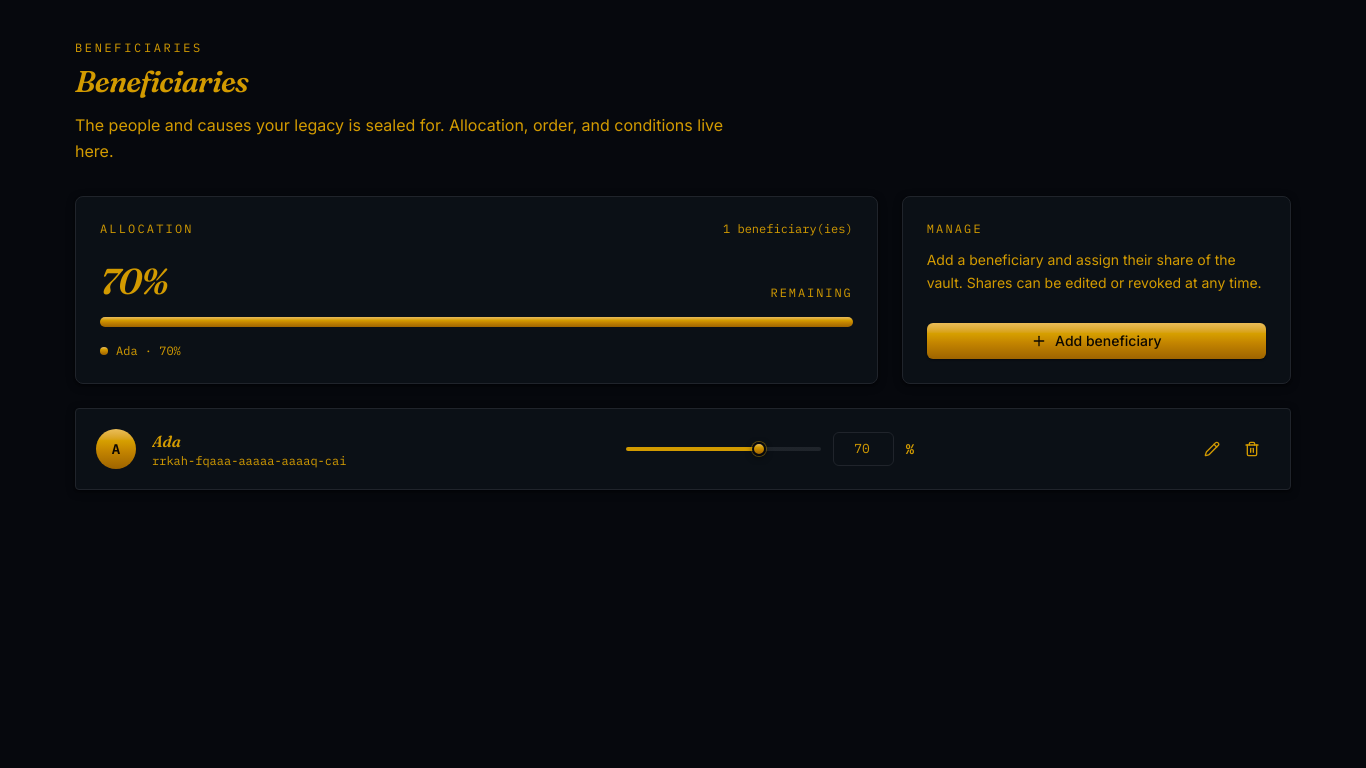
Scenario: BeneficiaryPage › rejects an allocation sum that would exceed 100% with an inline error
The image size is (1366, 768).
Click the button "Add beneficiary".
click(1096, 341)  # box [927,323,1266,359]
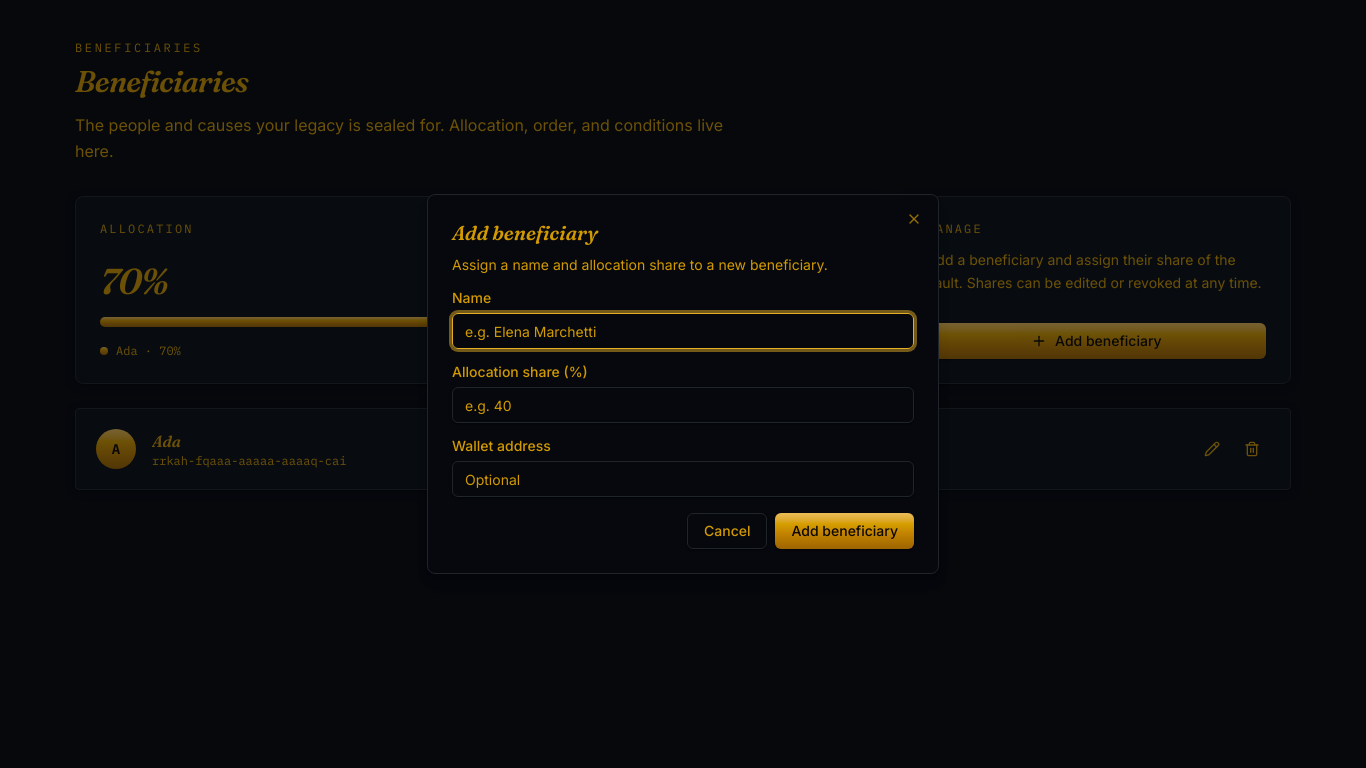
Type "Bob" into the field labelled "Name".
click(683, 331); type("Bob")  # box [452,313,914,349]
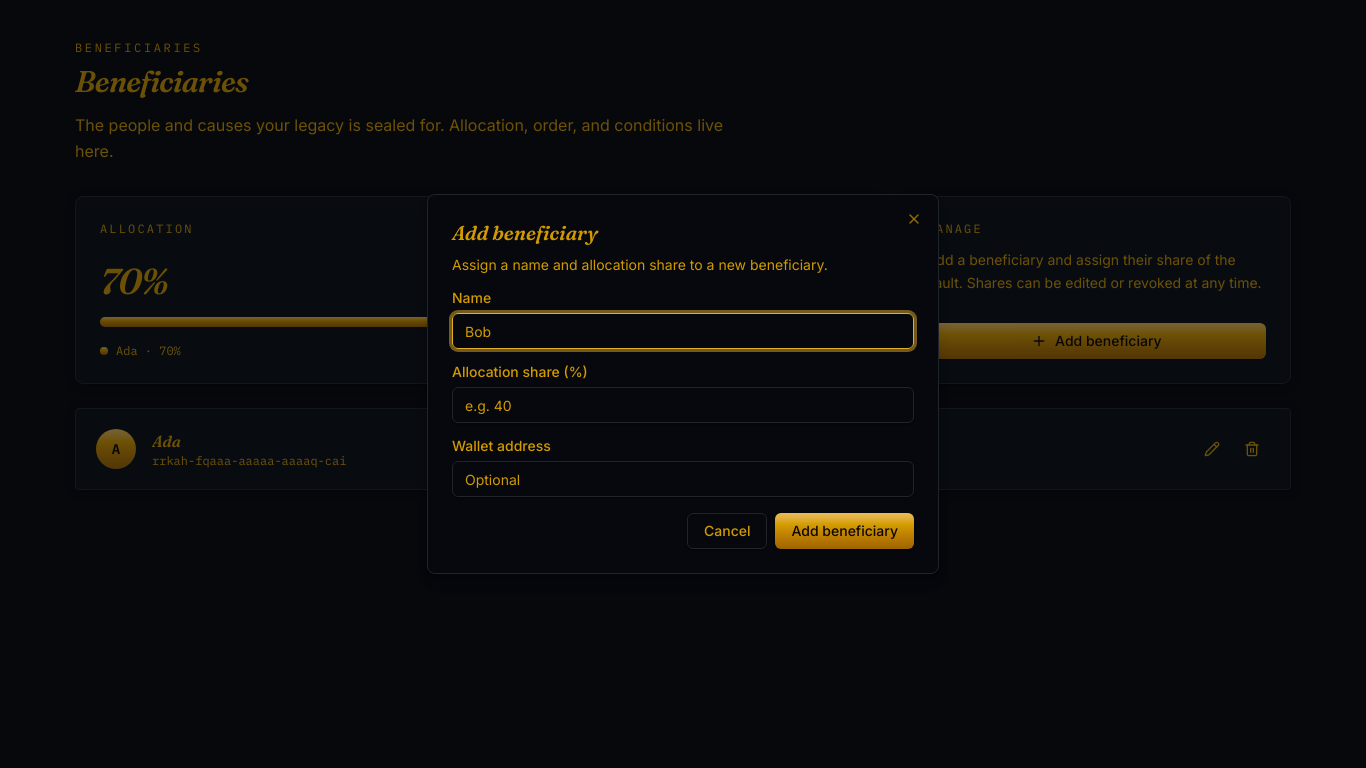
Type "40" into the number field labelled "Allocation share (%)".
click(683, 405); type("40")  # box [452,387,914,423]
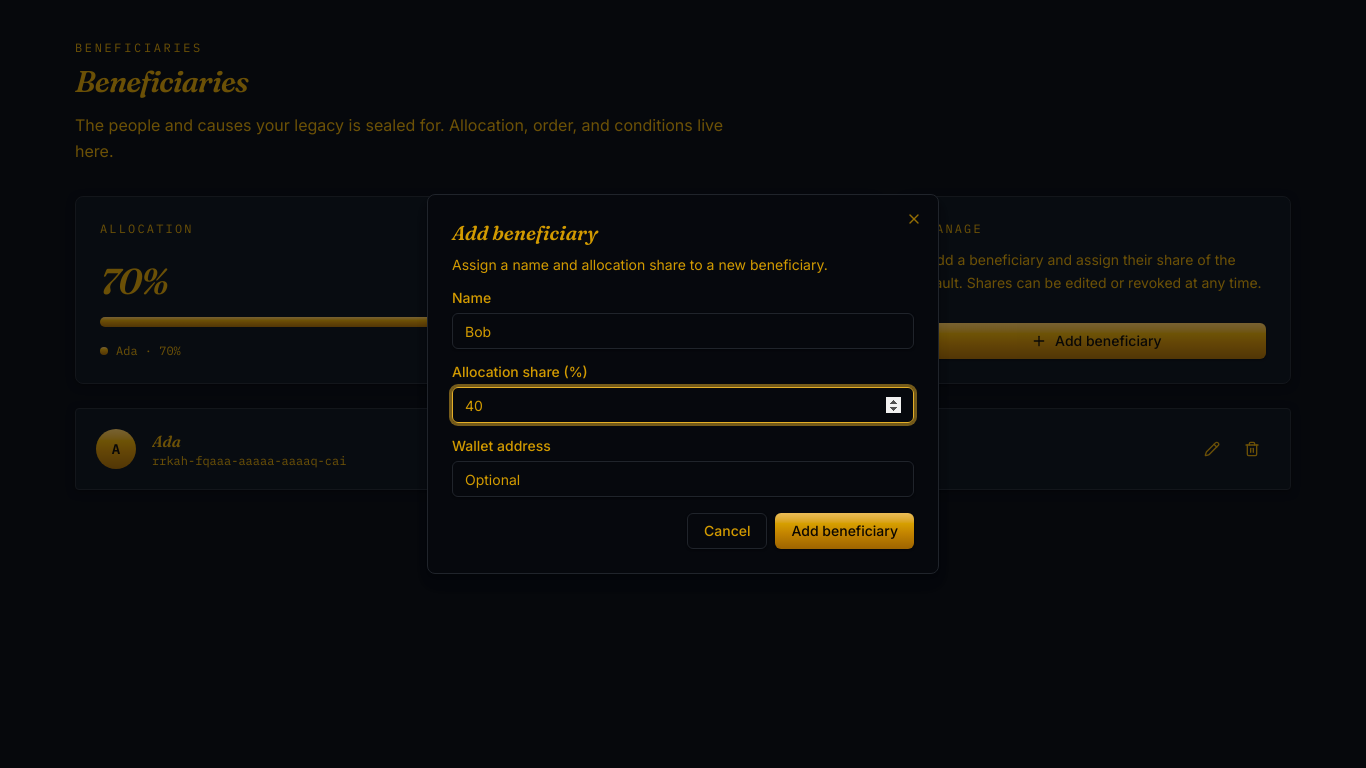
Type "2vxsx-fae" into the field labelled "Wallet address".
click(683, 479); type("2vxsx-fae")  # box [452,461,914,497]
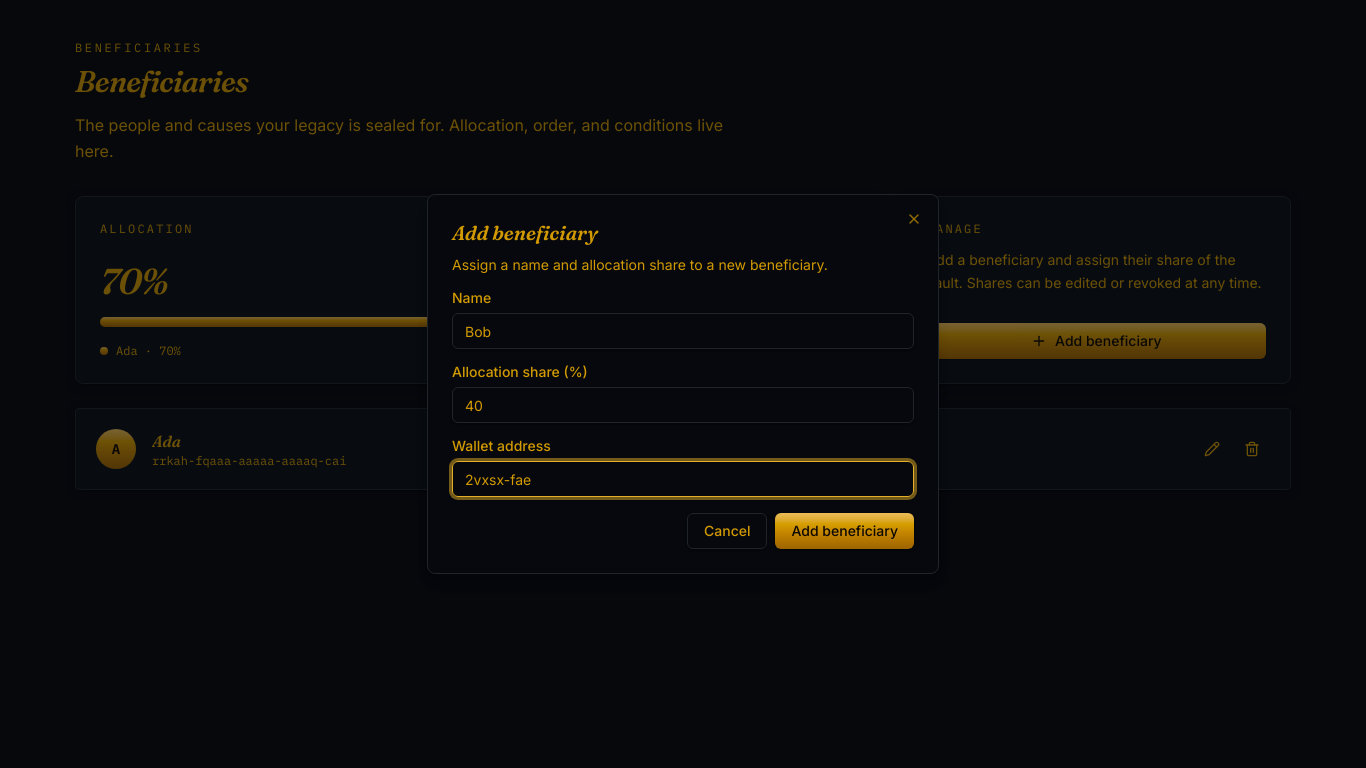
Click the button "Add beneficiary".
click(845, 531)  # box [776,513,914,549]
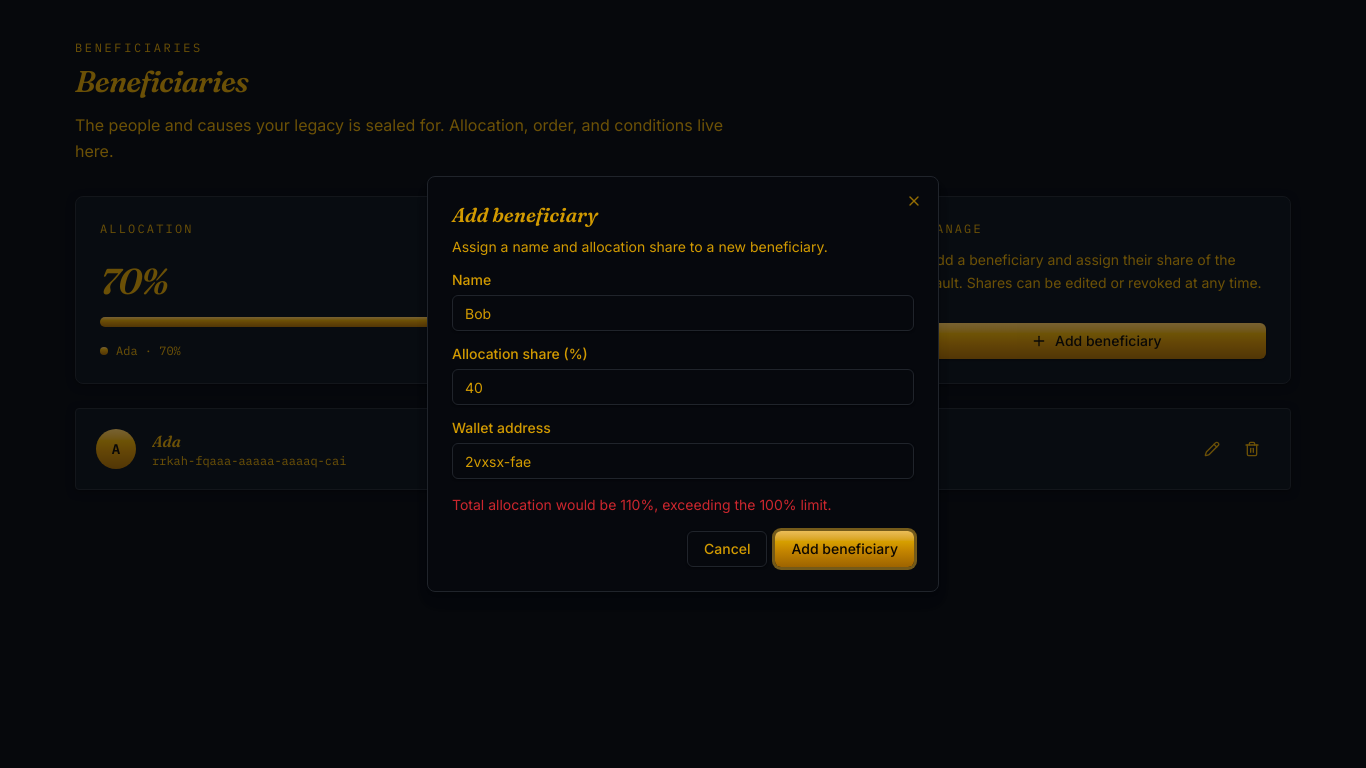
Now the text "Total allocation would be 110%, exceeding the 100% limit." is shown, box [452,496,832,513]
